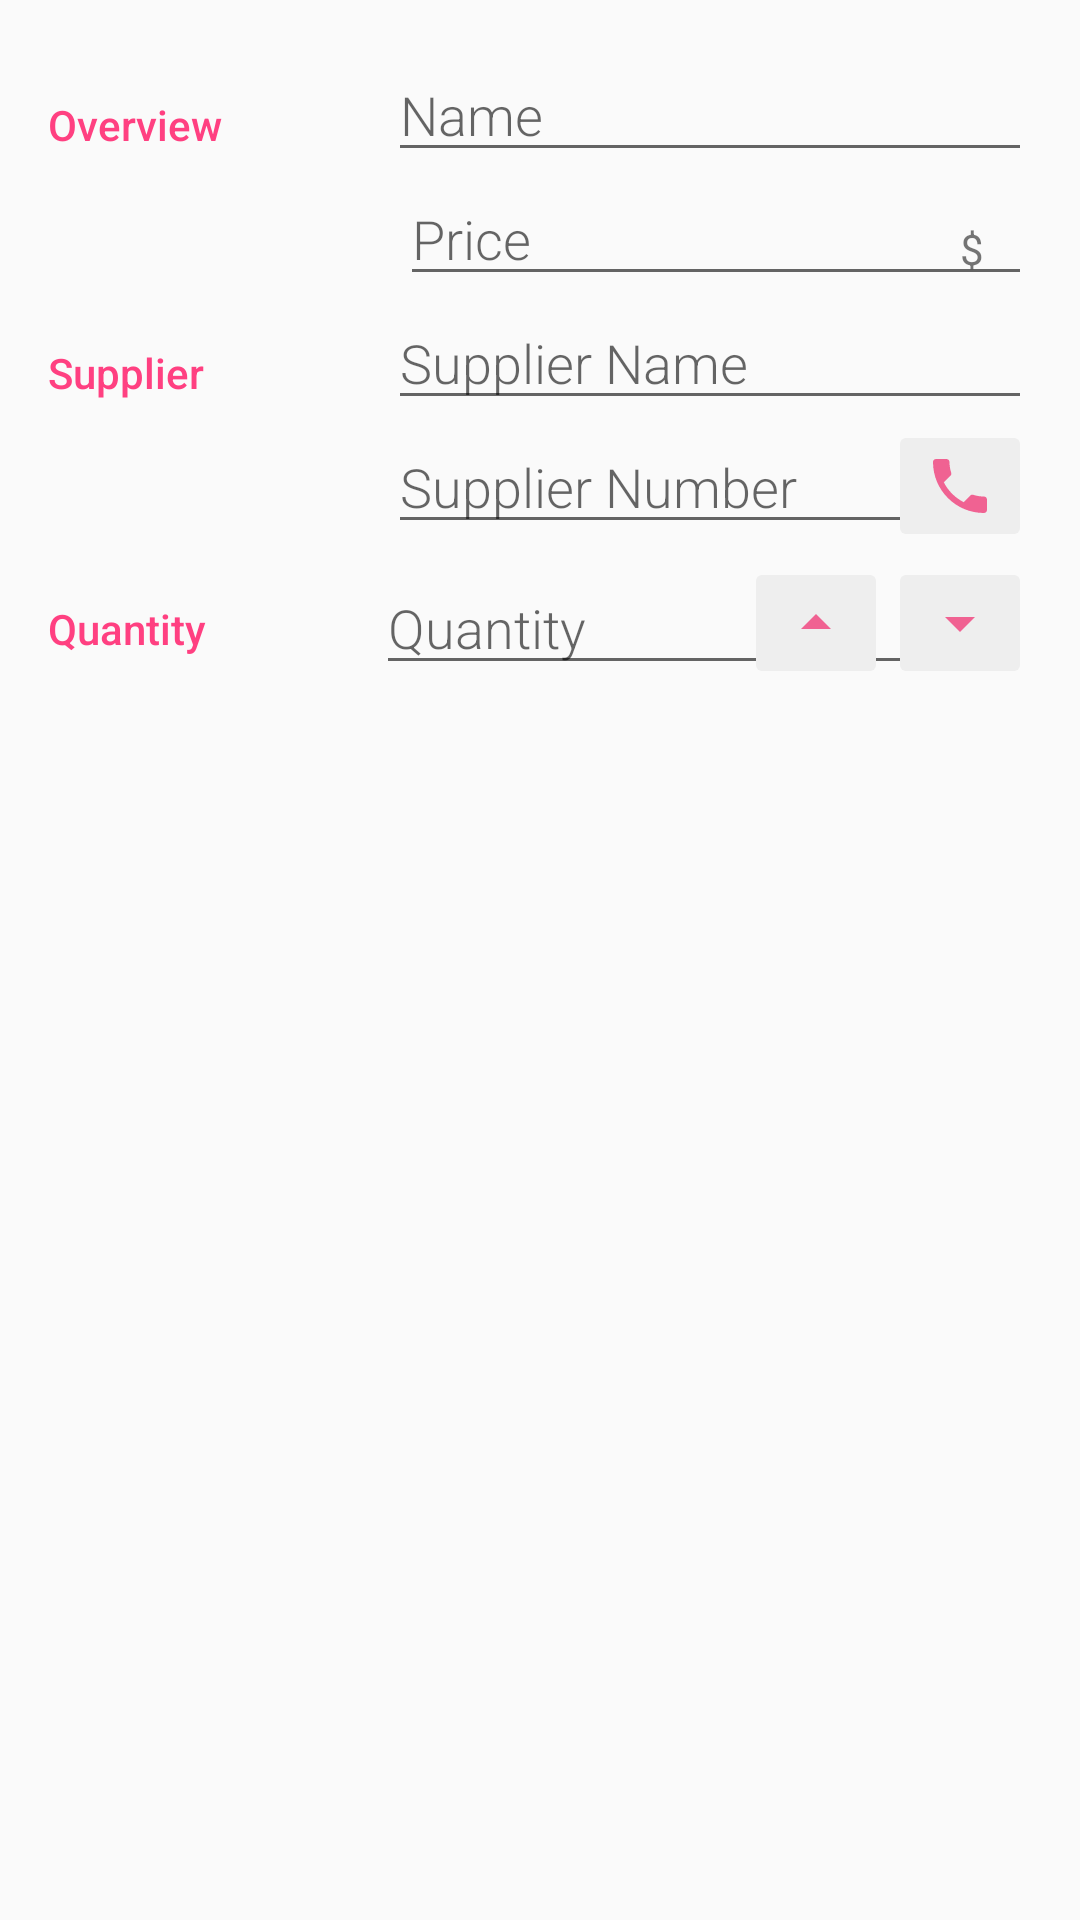

Where icons sit on this 1080 x 1920 app screen, as (x1, y1, x2, y2):
arrow add: (801, 614, 831, 629)
arrow down: (945, 617, 975, 632)
call: (888, 438, 1020, 534)
